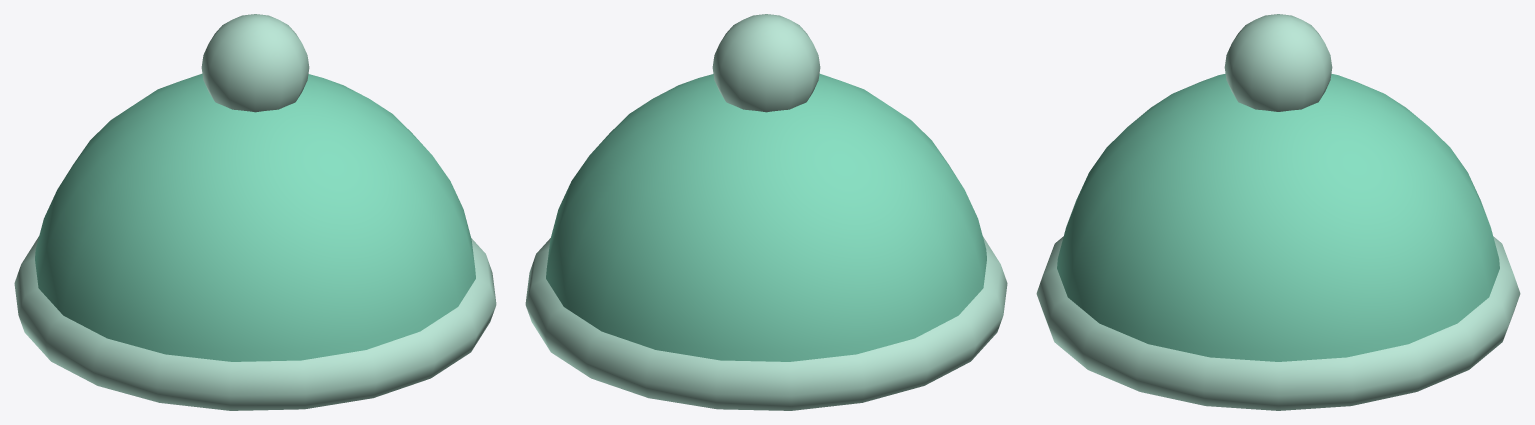
Rendered from HatRound.fbx.
3 views of the same model, side by side, from view 1: azimuth 30°, elevation 25°; view 2: azimuth 150°, elevation 25°; view 3: azimuth 270°, elevation 25° (orthographic).
Parts seen in each view (by area): view 1: HatRound1; view 2: HatRound1; view 3: HatRound1.
Part boxes in pixels (x1,y1,x2,y2): HatRound1: [14, 14, 496, 410]; HatRound1: [525, 14, 1007, 410]; HatRound1: [1036, 14, 1520, 410].
Bounding box in the file's own units: 2.17 × 1.48 × 2.17.
